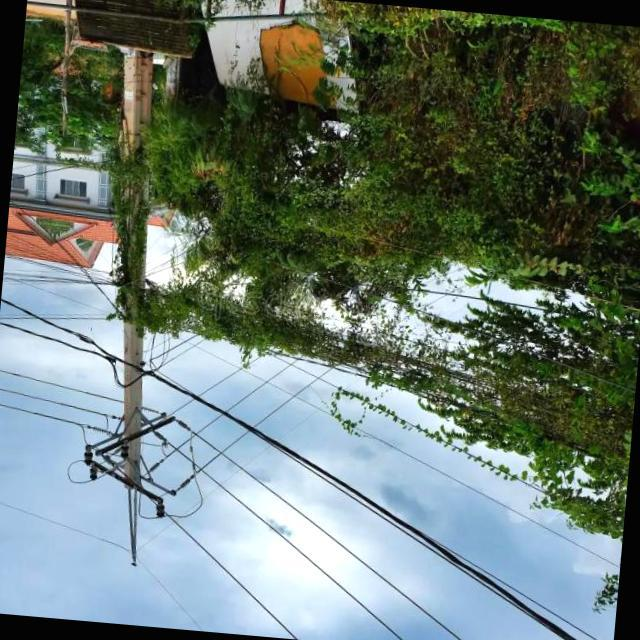light_pole: (90, 146, 566, 471)
